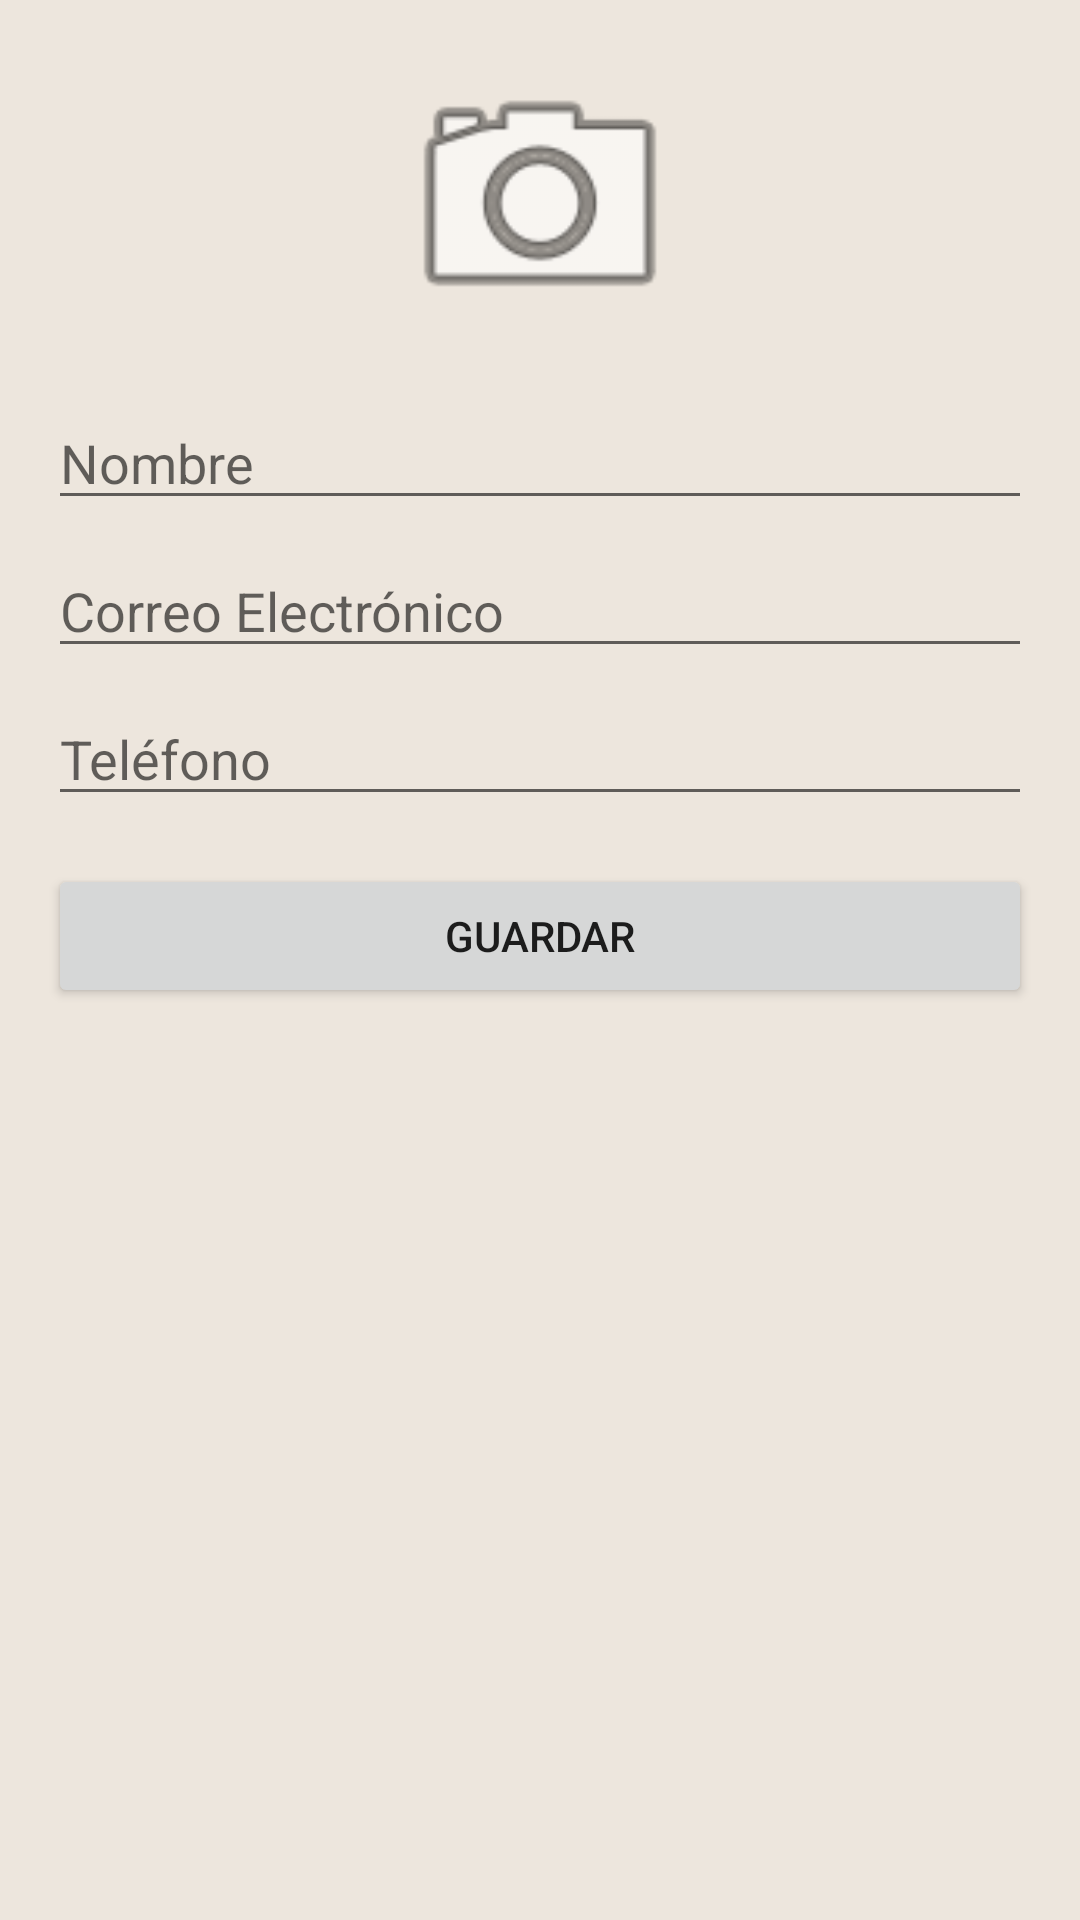

Screen size 1080px x 1920px. Icon name, then its center in pixels as (x,y):
Profile Image: (540,193)
